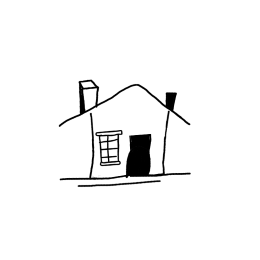chimney: (73, 70, 104, 115), (157, 78, 186, 115)
closed_window: (94, 125, 123, 170)
door: (123, 125, 159, 180)
single_line_roof: (51, 65, 209, 128)
small_house: (0, 0, 260, 260)
wall: (84, 112, 172, 183)
